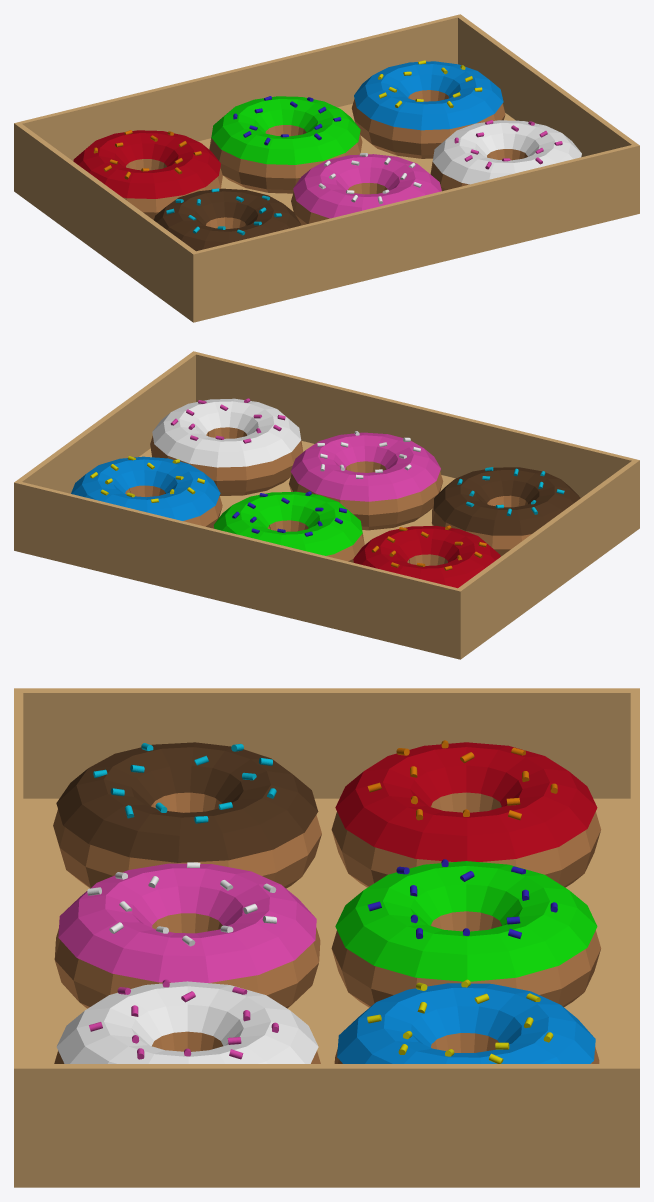
The model's file is Donuts.fbx.
3 renders of one model, top to bottom at view 1: azimuth 30°, elevation 25°; view 2: azimuth 150°, elevation 25°; view 3: azimuth 270°, elevation 25°, orthographic. The views are drawn at different scales.
Parts seen in each view (by area): view 1: Cardboard, Donut_6, Donut_5, Donut_4, Donut_2, Donut_1, Donut_3; view 2: Cardboard, Donut_2, Donut_1, Donut_3, Donut_6, Donut_5, Donut_4; view 3: Cardboard, Donut_5, Donut_3, Donut_4, Donut_2, Donut_1, Donut_6.
Boxes of the visible parts, bbox=[...] form: Cardboard: bbox=[14, 14, 639, 322]; Donut_6: bbox=[351, 60, 505, 158]; Donut_5: bbox=[209, 96, 362, 193]; Donut_4: bbox=[73, 130, 222, 219]; Donut_2: bbox=[291, 153, 441, 225]; Donut_1: bbox=[430, 120, 581, 191]; Donut_3: bbox=[154, 188, 300, 251]; Cardboard: bbox=[14, 351, 639, 659]; Donut_2: bbox=[289, 431, 443, 530]; Donut_1: bbox=[150, 398, 303, 495]; Donut_3: bbox=[431, 467, 580, 556]; Donut_6: bbox=[71, 456, 222, 528]; Donut_5: bbox=[213, 491, 364, 562]; Donut_4: bbox=[353, 525, 500, 588]; Cardboard: bbox=[14, 688, 639, 1187]; Donut_5: bbox=[331, 859, 601, 1007]; Donut_3: bbox=[53, 742, 321, 888]; Donut_4: bbox=[331, 740, 601, 887]; Donut_2: bbox=[54, 862, 320, 1008]; Donut_1: bbox=[54, 979, 320, 1063]; Donut_6: bbox=[334, 979, 599, 1063].
Bounding box in the file's own units: 1076 × 157 × 749.
